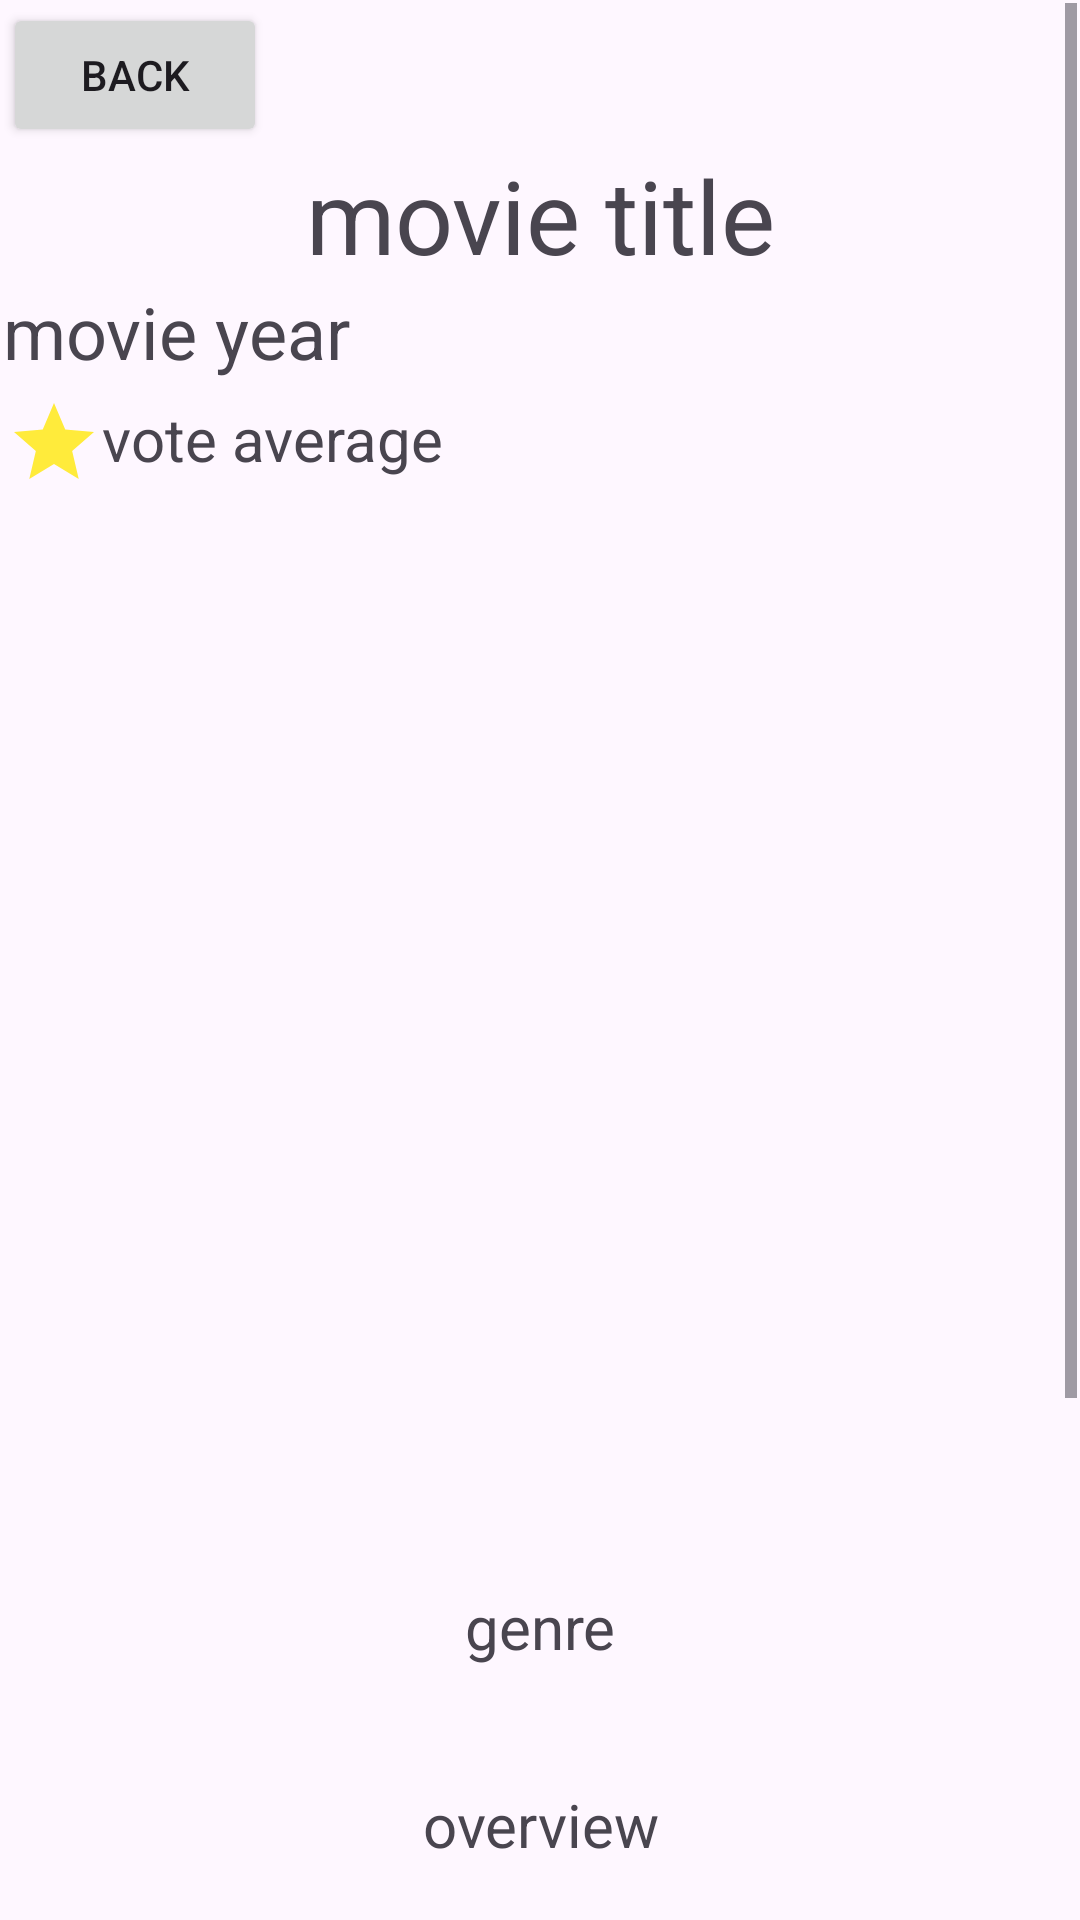

Where to tap for icons on this 1080 x 1920 app screen, as (x=x, y=y):
star: (x=54, y=441)
